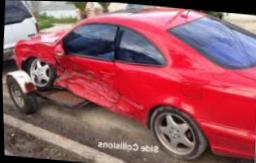Door: (56, 65, 114, 105)
Fender: (16, 41, 52, 62)
